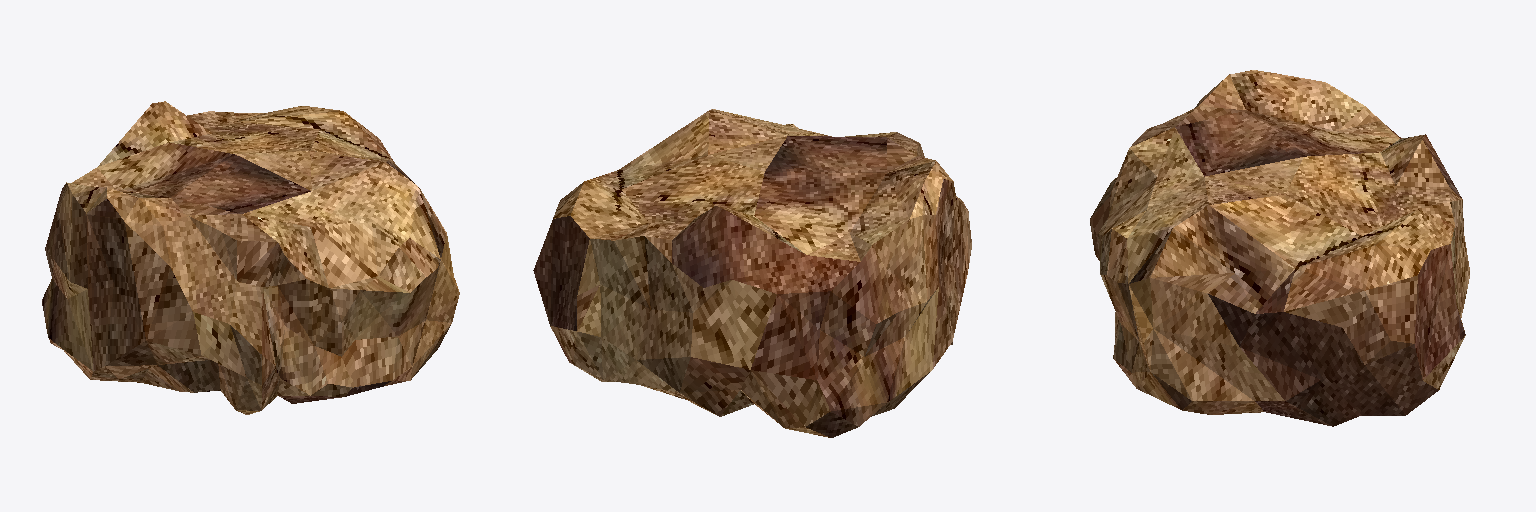
3 renders of one model, left to right at view 1: azimuth 30°, elevation 25°; view 2: azimuth 150°, elevation 25°; view 3: azimuth 270°, elevation 25°, orthographic.
Parts seen in each view (by area): view 1: Rock07; view 2: Rock07; view 3: Rock07.
Part boxes in pixels (x1,y1,x2,y2): Rock07: (42, 101, 459, 414); Rock07: (533, 109, 971, 437); Rock07: (1090, 70, 1469, 426).
Bounding box in the file's own units: 11.01 × 6.81 × 10.53.
1 materials, 1 textured.